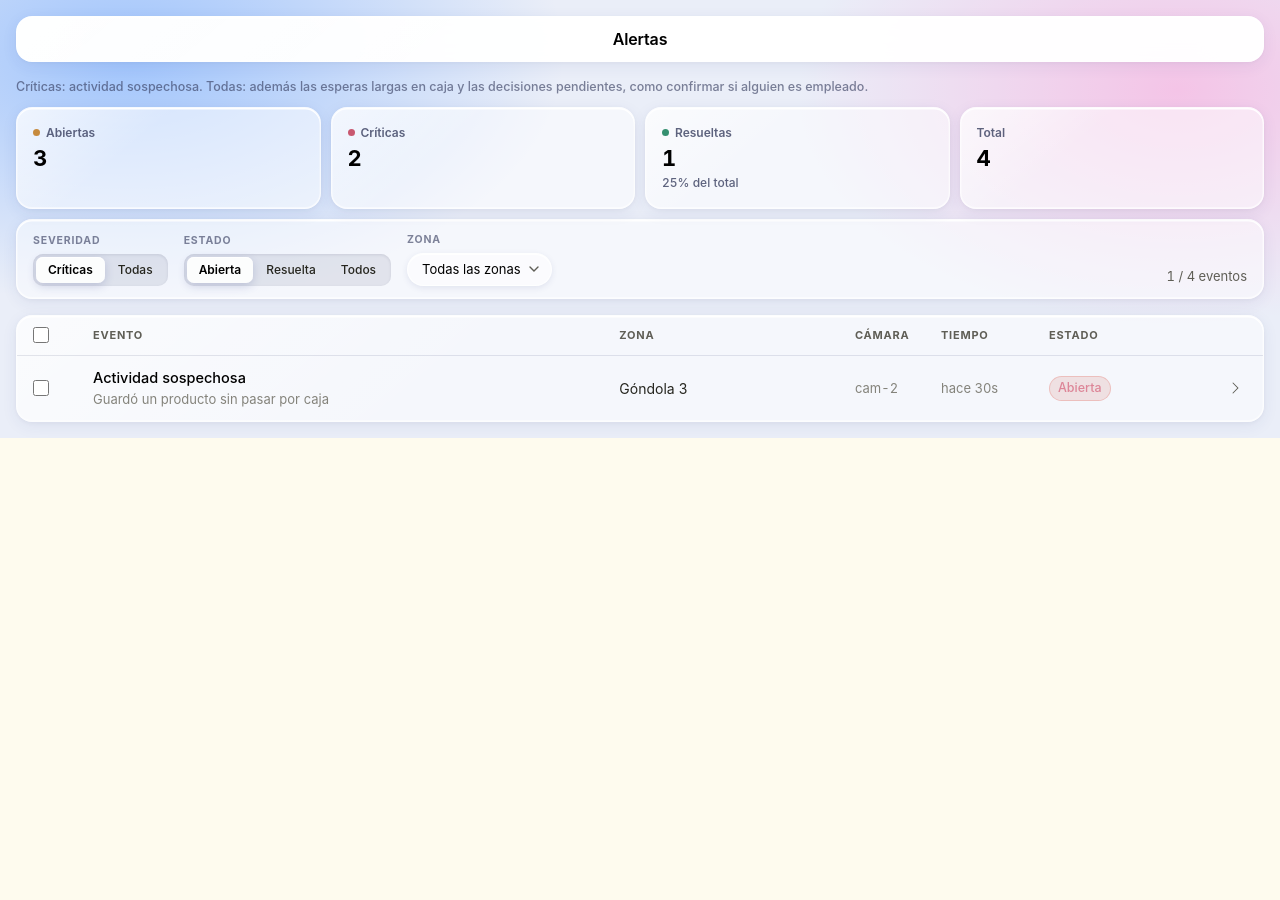
Scenario: selección › Shift + clic selecciona todas las que hay entre las dos casillas
Check: the text "Actividad sospechosa" is shown, box [93, 369, 246, 386]
Click the button "Todas". click: (135, 270)
box: [106, 257, 165, 283]
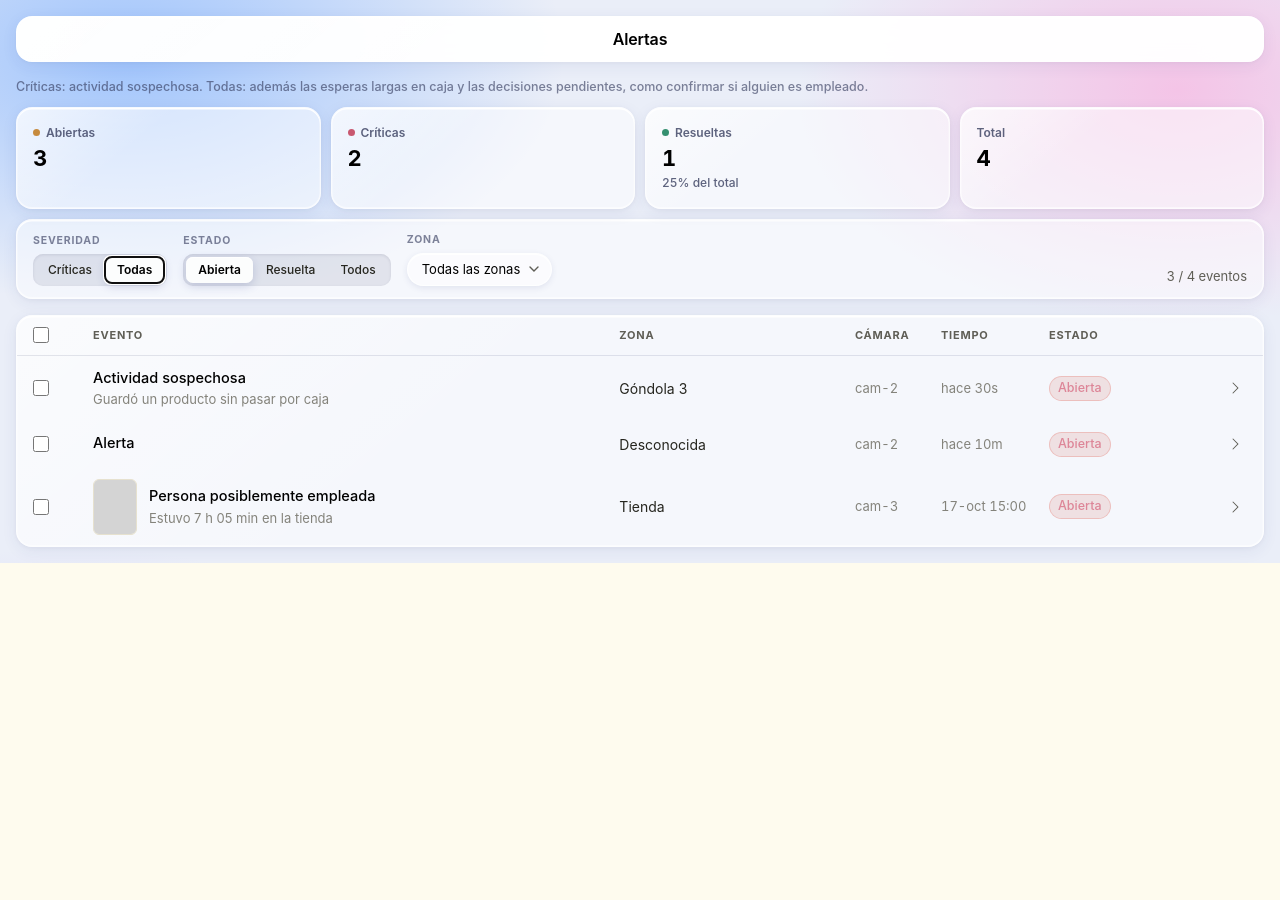
Click the button "Todos". click: (358, 270)
box: [328, 257, 388, 283]
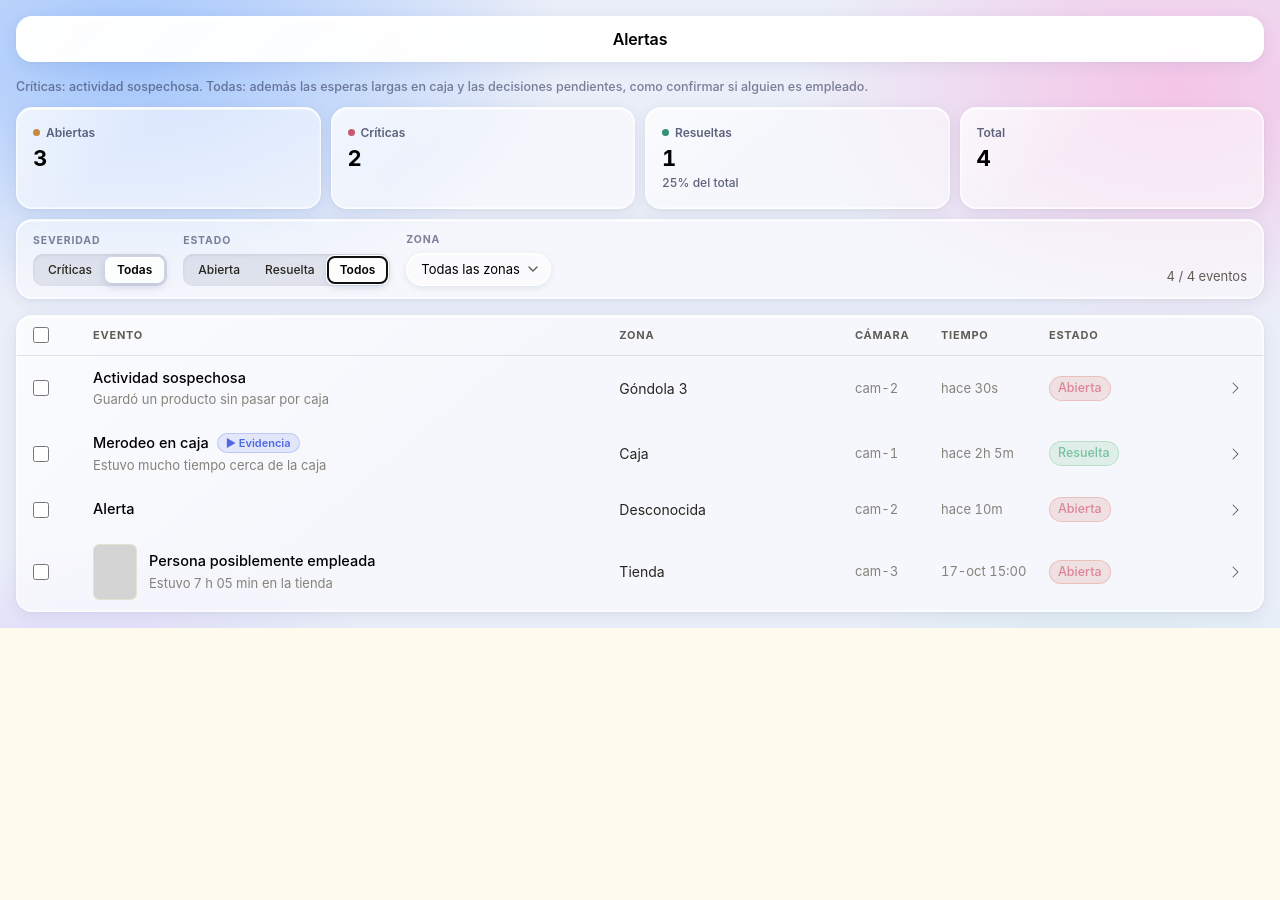
Click the checkbox named "Seleccionar Actividad sospechosa". click: (41, 388)
box: [33, 380, 49, 396]
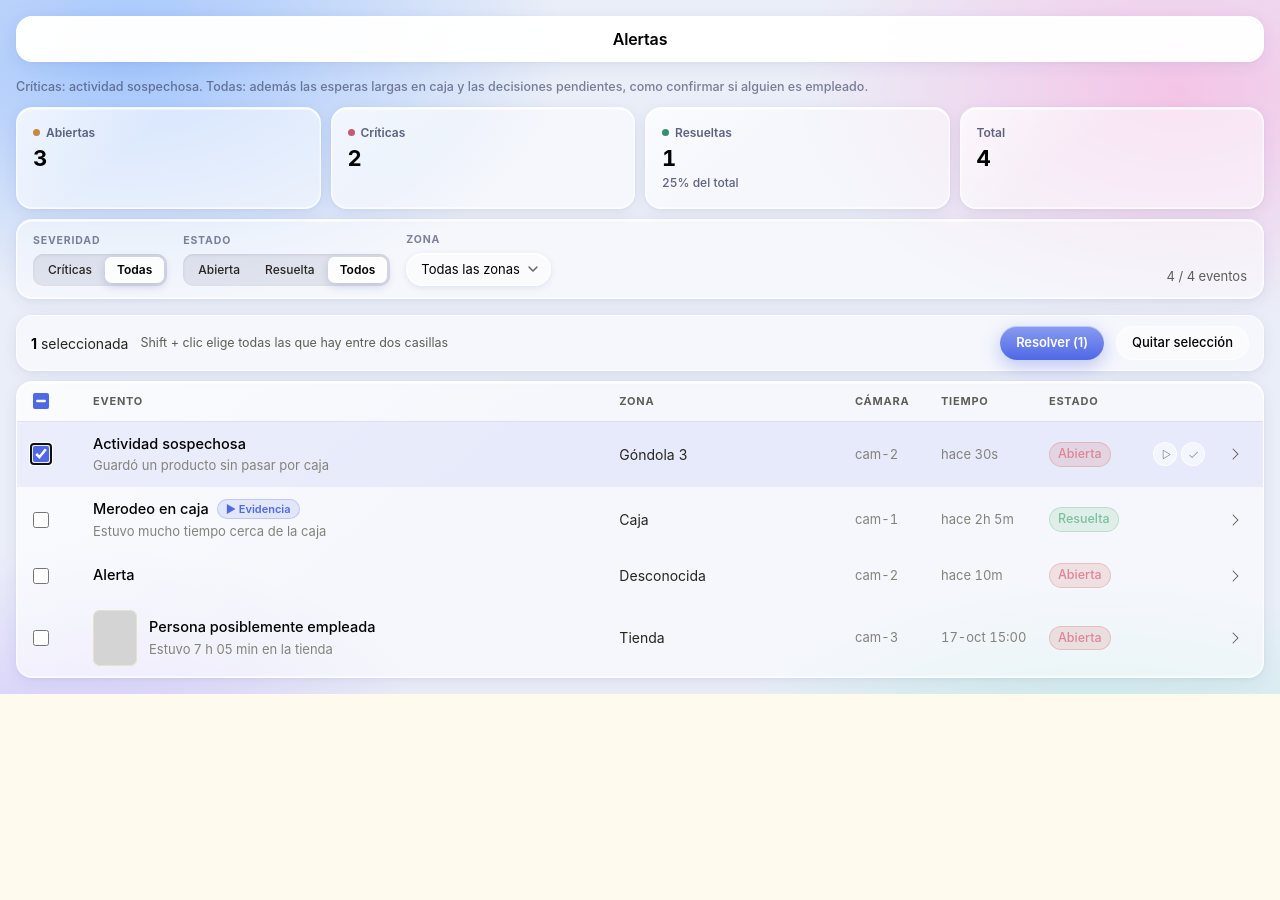
Type keys "{Shift>}"
Click the checkbox named "Seleccionar Persona posiblemente empleada". click: (41, 638)
box: [33, 630, 49, 646]
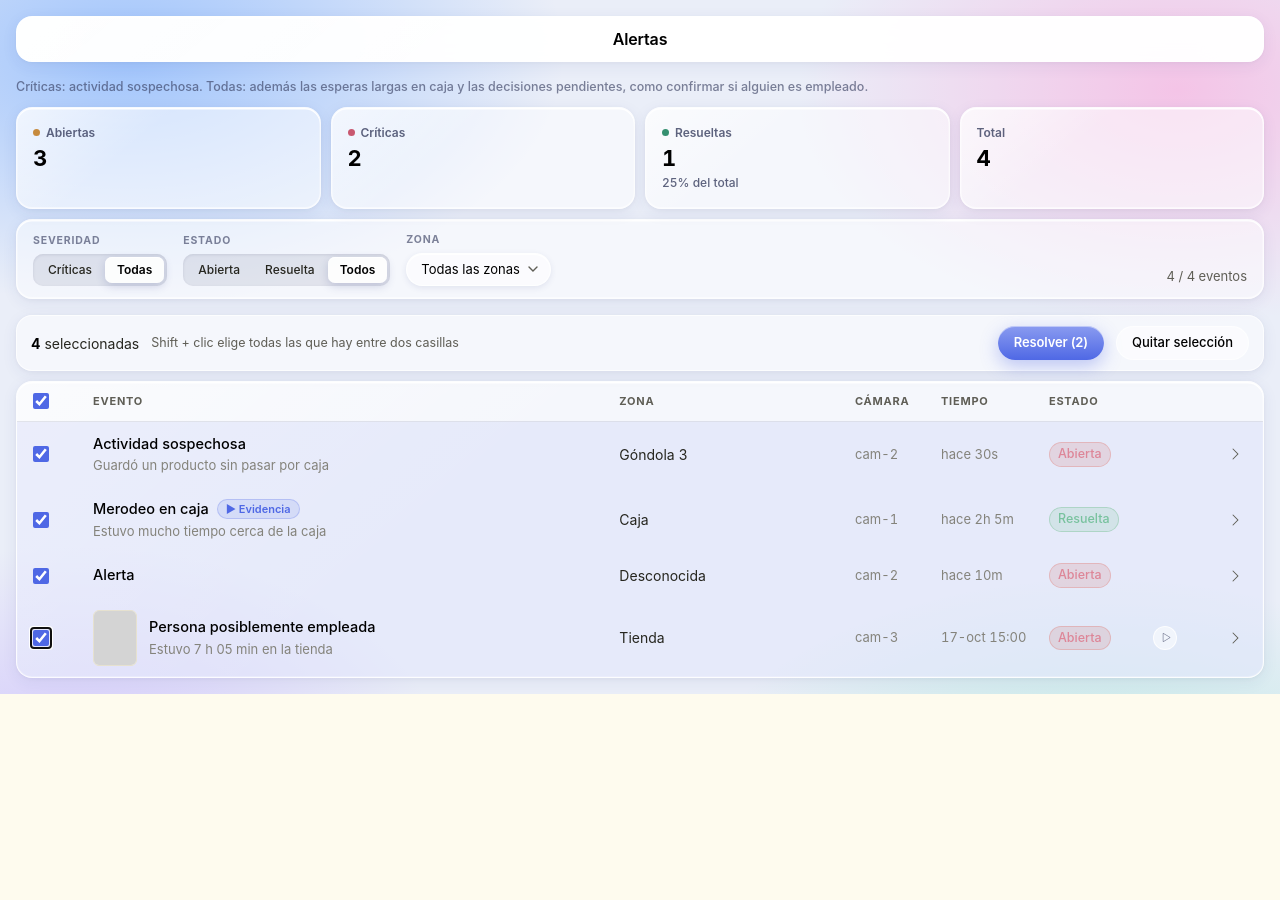
Type keys "{/Shift}"
Check: the element named "Alertas seleccionadas" shows "4 seleccionadas", box [16, 315, 1264, 371]
Click the checkbox named "Seleccionar Persona posiblemente empleada". click: (41, 638)
box: [33, 630, 49, 646]
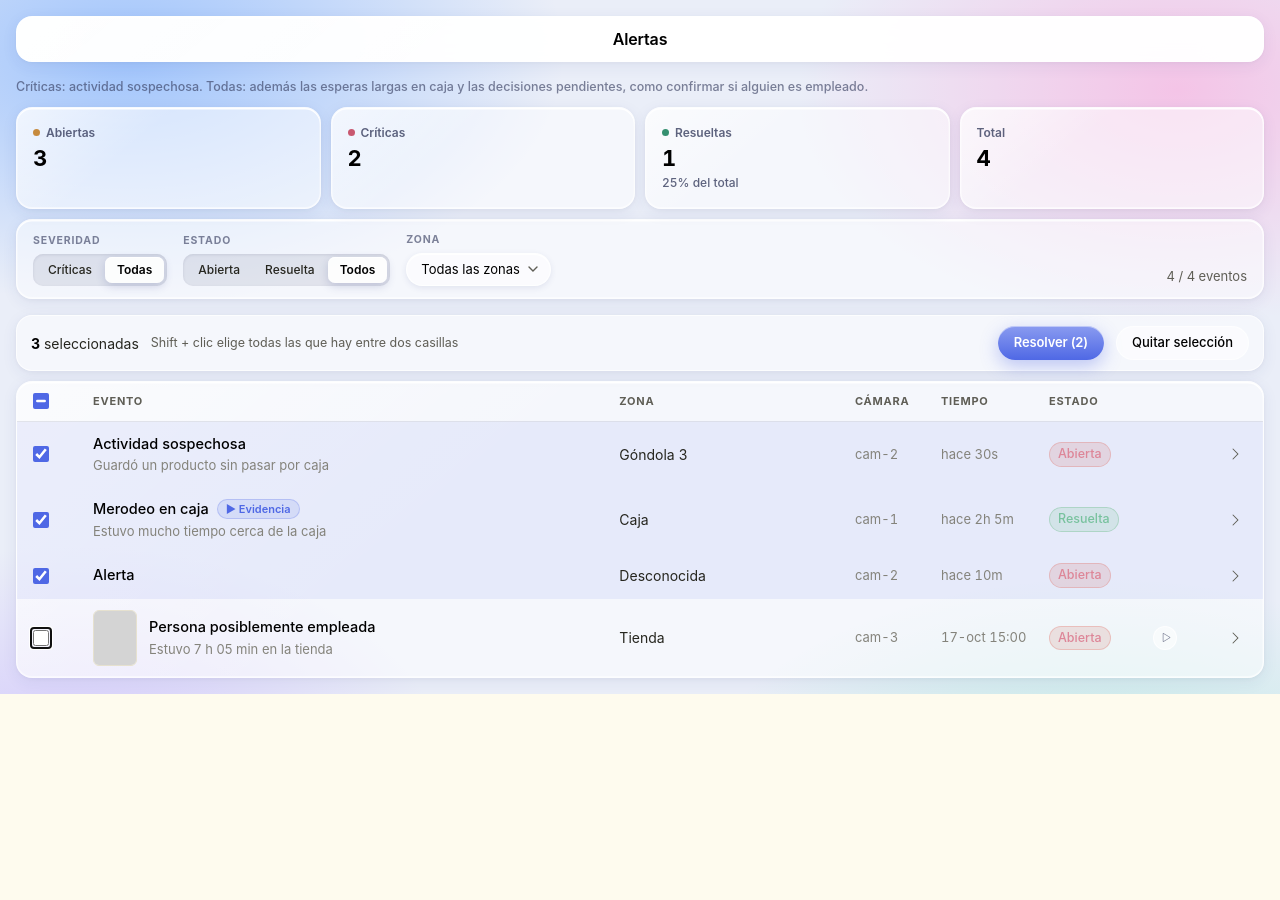
Check: the element named "Alertas seleccionadas" shows "3 seleccionadas", box [16, 315, 1264, 371]
